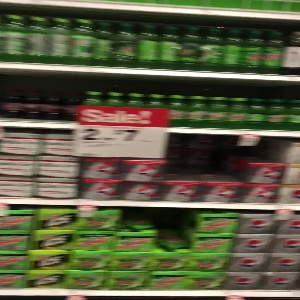void: (1, 77, 79, 124)
